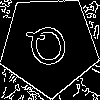Q: (24, 20, 75, 78)
